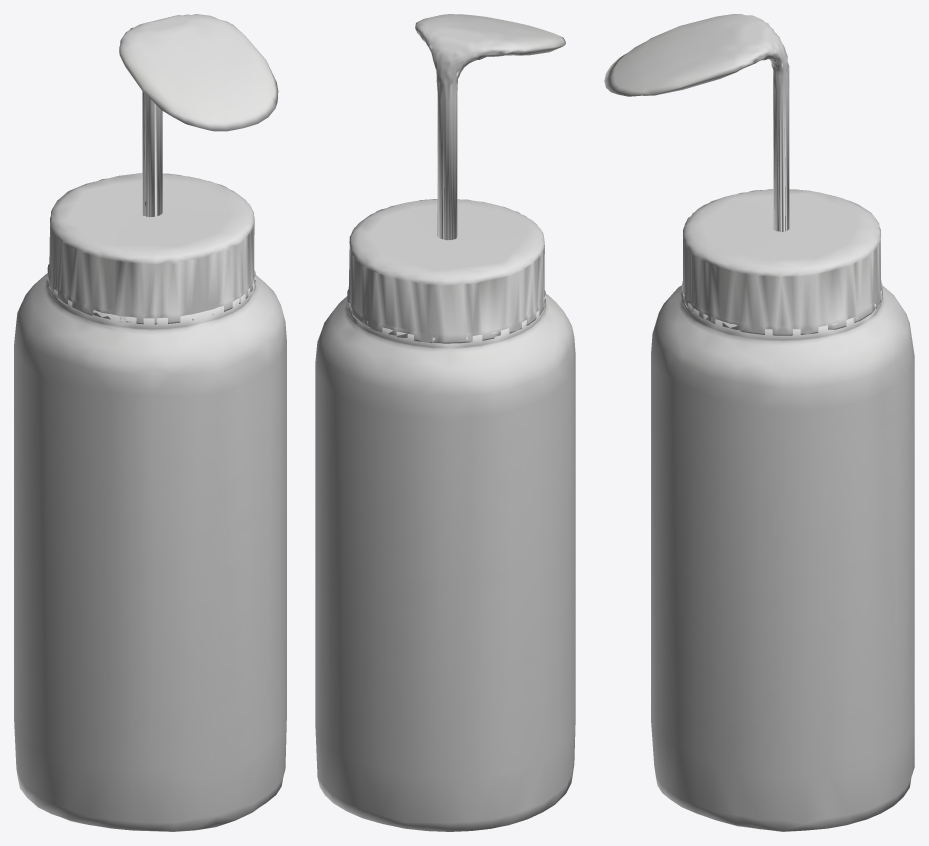
Rendered from desiccant_bottle_1778158655.glb.
3 renders of one model, left to right at view 1: azimuth 30°, elevation 25°; view 2: azimuth 150°, elevation 25°; view 3: azimuth 270°, elevation 25°, orthographic. The views are drawn at different scales.
Parts seen in each view (by area): view 1: tripo_node_5e566ada-d615-4754-99fb-1e26b000fb19; view 2: tripo_node_5e566ada-d615-4754-99fb-1e26b000fb19; view 3: tripo_node_5e566ada-d615-4754-99fb-1e26b000fb19.
Boxes of the visible parts, x1,y1,x2,y2 form: tripo_node_5e566ada-d615-4754-99fb-1e26b000fb19: [14, 14, 286, 831]; tripo_node_5e566ada-d615-4754-99fb-1e26b000fb19: [315, 14, 575, 831]; tripo_node_5e566ada-d615-4754-99fb-1e26b000fb19: [604, 14, 914, 831].
Bounding box in the file's own units: 0.3223 × 0.998 × 0.377.
Materials: 1 (1 with a texture image).
